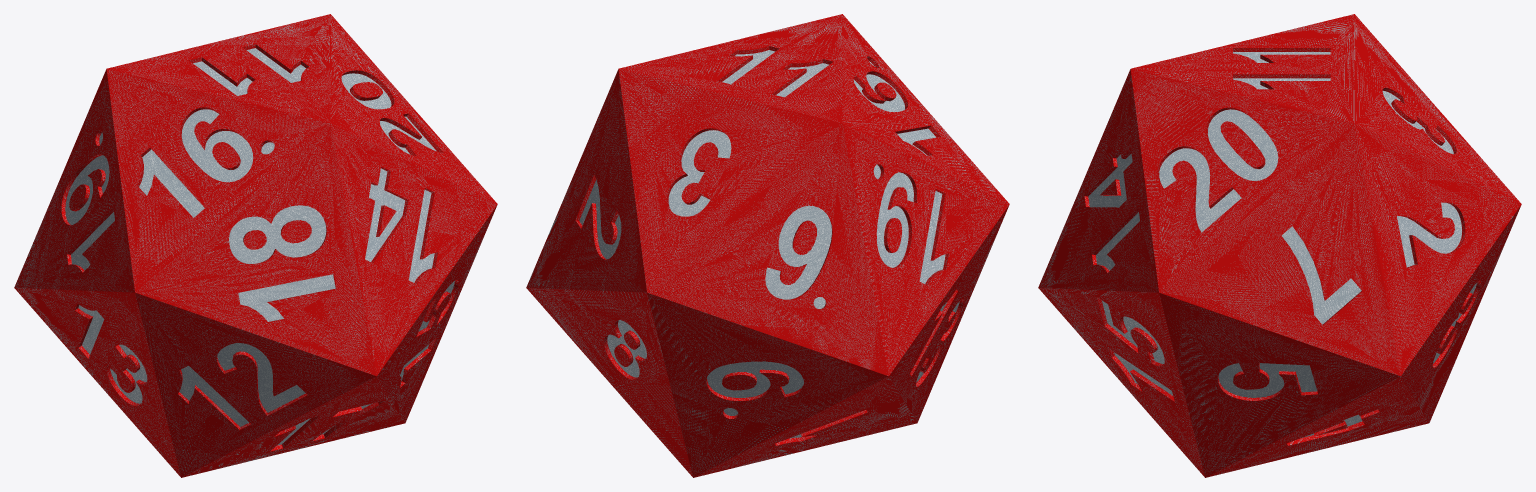
Rendered from Boardgame_D20_Red_01.fbx.
3 renders of one model, left to right at view 1: azimuth 30°, elevation 25°; view 2: azimuth 150°, elevation 25°; view 3: azimuth 270°, elevation 25°, orthographic.
Visible parts, largest first — view 1: Model; view 2: Model; view 3: Model.
Part boxes in pixels (x1,y1,x2,y2): Model: (14,14,497,477); Model: (526,14,1009,477); Model: (1038,14,1521,477).
Size of the model in its own units: 235 by 219 by 271.
